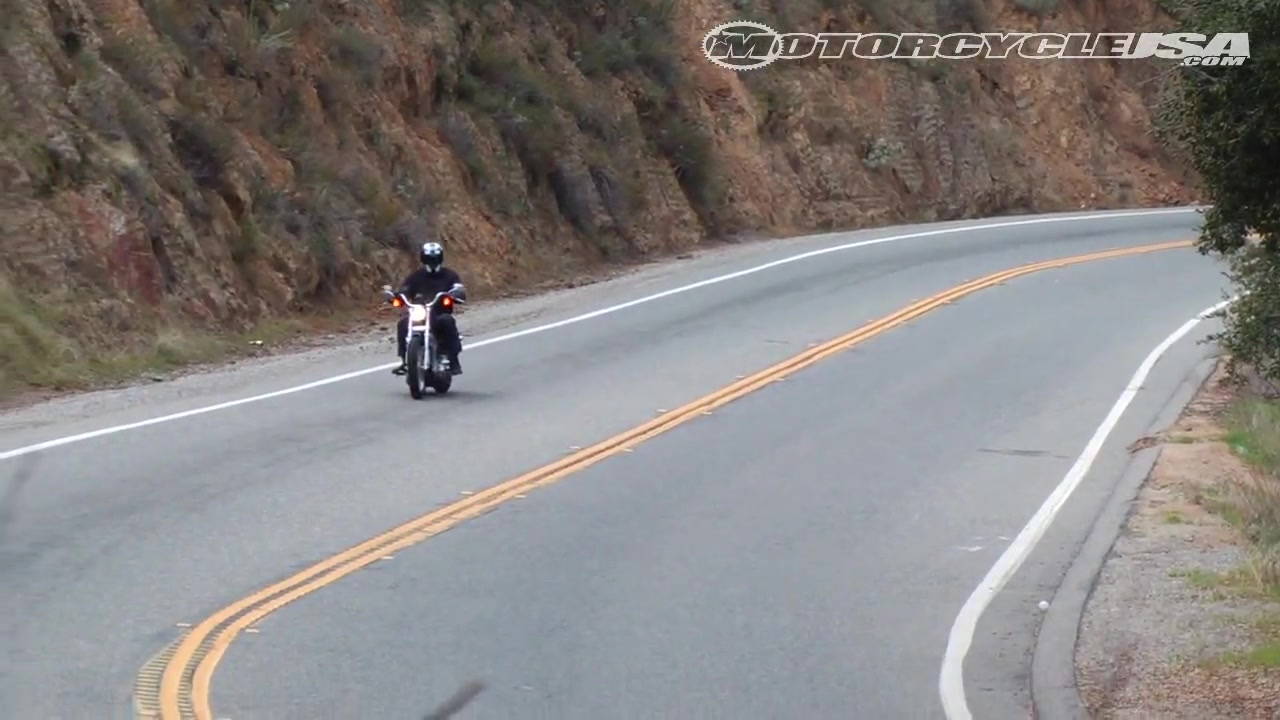motorbike: (381, 283, 470, 400)
